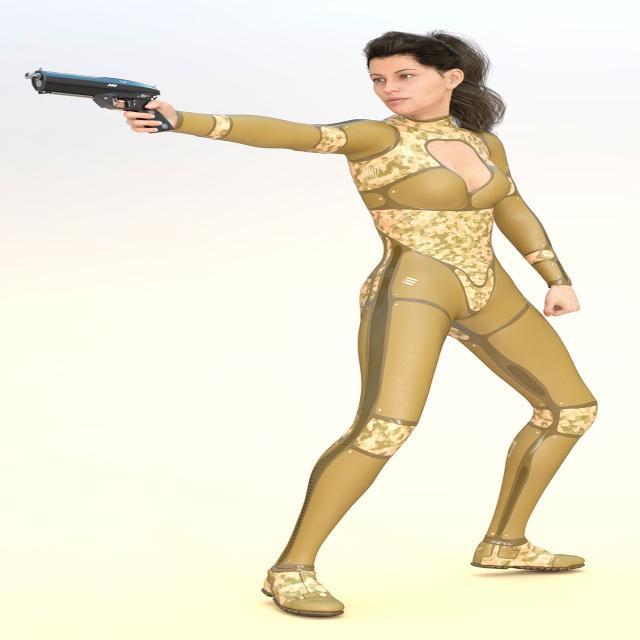Gun: (25, 69, 160, 112)
